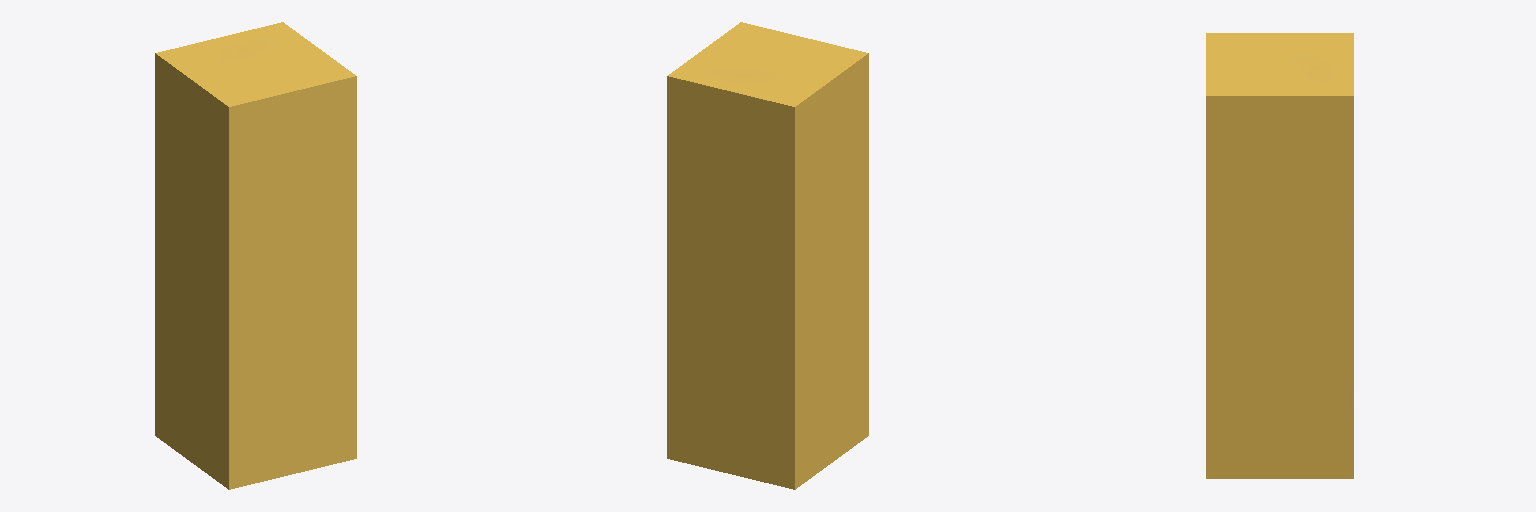
3 views of the same model, side by side, from view 1: azimuth 30°, elevation 25°; view 2: azimuth 150°, elevation 25°; view 3: azimuth 270°, elevation 25° (orthographic).
Visible parts, largest first — view 1: 立方体.007; view 2: 立方体.007; view 3: 立方体.007.
Part boxes in pixels (x1,y1,x2,y2): 立方体.007: (155, 22, 356, 489); 立方体.007: (667, 22, 868, 489); 立方体.007: (1206, 33, 1353, 478).
Bounding box in the file's own units: 2 × 5.72 × 2.
1 materials, 1 textured.